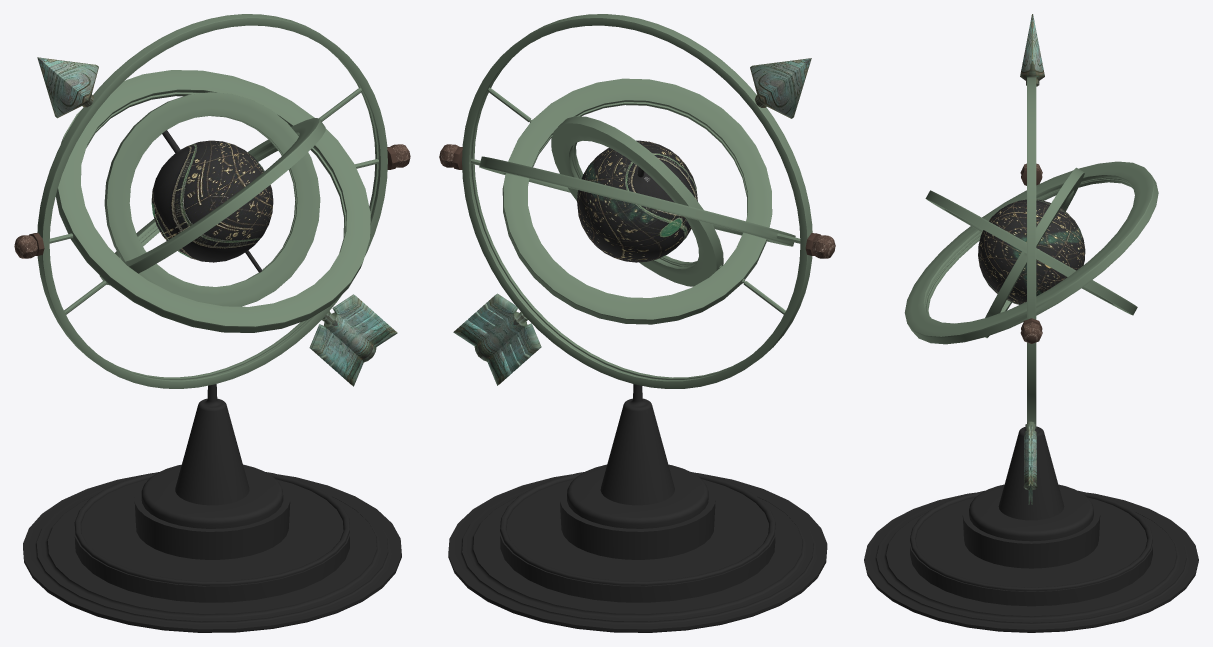
File: 可动浑天仪3.1.6!.fbx
3 views of the same model, side by side, from view 1: azimuth 30°, elevation 25°; view 2: azimuth 150°, elevation 25°; view 3: azimuth 270°, elevation 25° (orthographic). The views are drawn at different scales.
Parts seen in each view (by area): view 1: 云台, 赤道环, 赤经环, 子午环, 天球, 黄道环, 装饰1.001, 装饰2, Circle.005; view 2: 云台, 黄道环, 子午环, 天球, 赤经环, 赤道环, 装饰1.001, 装饰2, Circle.005; view 3: 云台, 赤道环, 天球, 子午环, 黄道环, 赤经环, 装饰2, 装饰1.001, Circle.005.
Boxes of the visible parts, x1,y1,x2,y2 form: 云台: (23,384,401,632); 赤道环: (49,70,378,332); 赤经环: (104,92,320,306); 子午环: (37,14,387,388); 天球: (151,130,273,272); 黄道环: (64,87,362,314); 装饰1.001: (309,294,397,386); 装饰2: (37,57,98,118); Circle.005: (14,144,410,258); 云台: (448,384,827,632); 黄道环: (487,78,785,324); 子午环: (462,14,812,388); 天球: (577,140,697,262); 赤经环: (551,116,723,286); 赤道环: (471,156,800,246); 装饰1.001: (453,293,541,385); 装饰2: (750,58,811,118); Circle.005: (439,144,835,258); 云台: (864,426,1198,632); 赤道环: (904,161,1158,344); 天球: (978,199,1085,304); 子午环: (1027,77,1036,428); 黄道环: (925,190,1137,315); 赤经环: (985,167,1084,337); 装饰2: (1020,14,1044,86); 装饰1.001: (1023,421,1037,504); Circle.005: (1020,163,1042,343).
Size of the model in its own units: 1059 by 1389 by 889.
